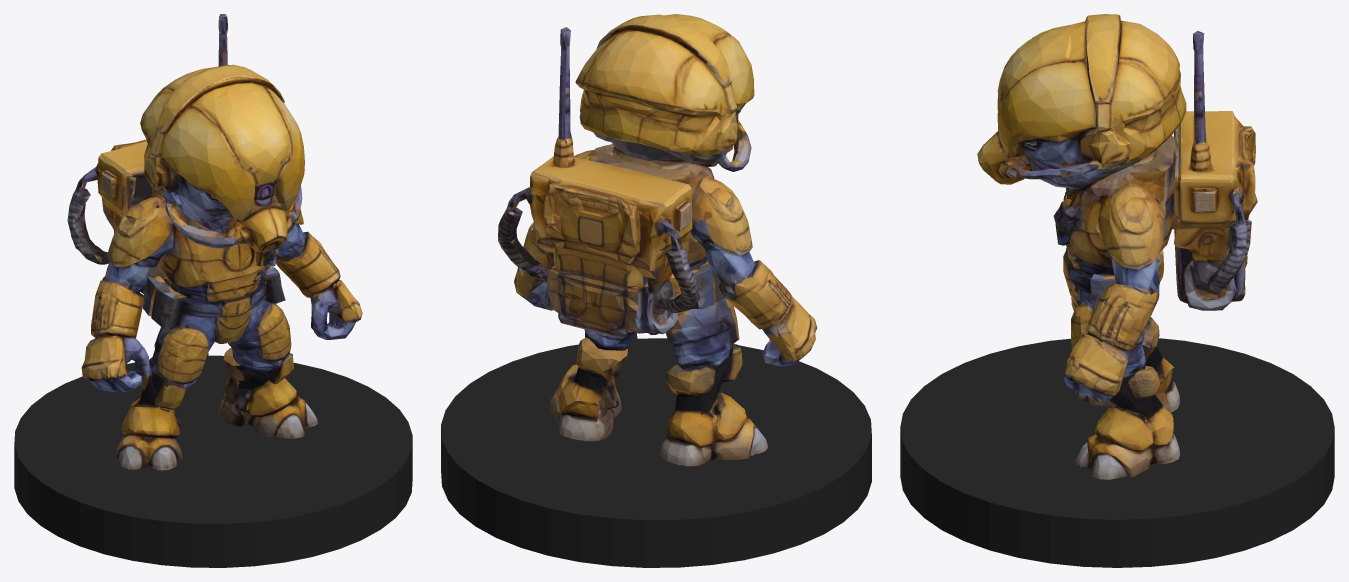
The model's file is pf-comms-specialist.glb.
3 renders of one model, left to right at view 1: azimuth 30°, elevation 25°; view 2: azimuth 150°, elevation 25°; view 3: azimuth 270°, elevation 25°, orthographic. The views are drawn at different scales.
Parts seen in each view (by area): view 1: figure, base; view 2: figure, base; view 3: figure, base.
Part boxes in pixels (x1,y1,x2,y2): figure: (67, 14, 362, 470); base: (14, 355, 412, 567); figure: (498, 14, 817, 466); base: (441, 338, 871, 567); figure: (977, 14, 1257, 479); base: (900, 338, 1334, 567).
Size of the model in its own units: 0.9843 by 1.17 by 0.9843.
Materials: 2 (1 with a texture image).
